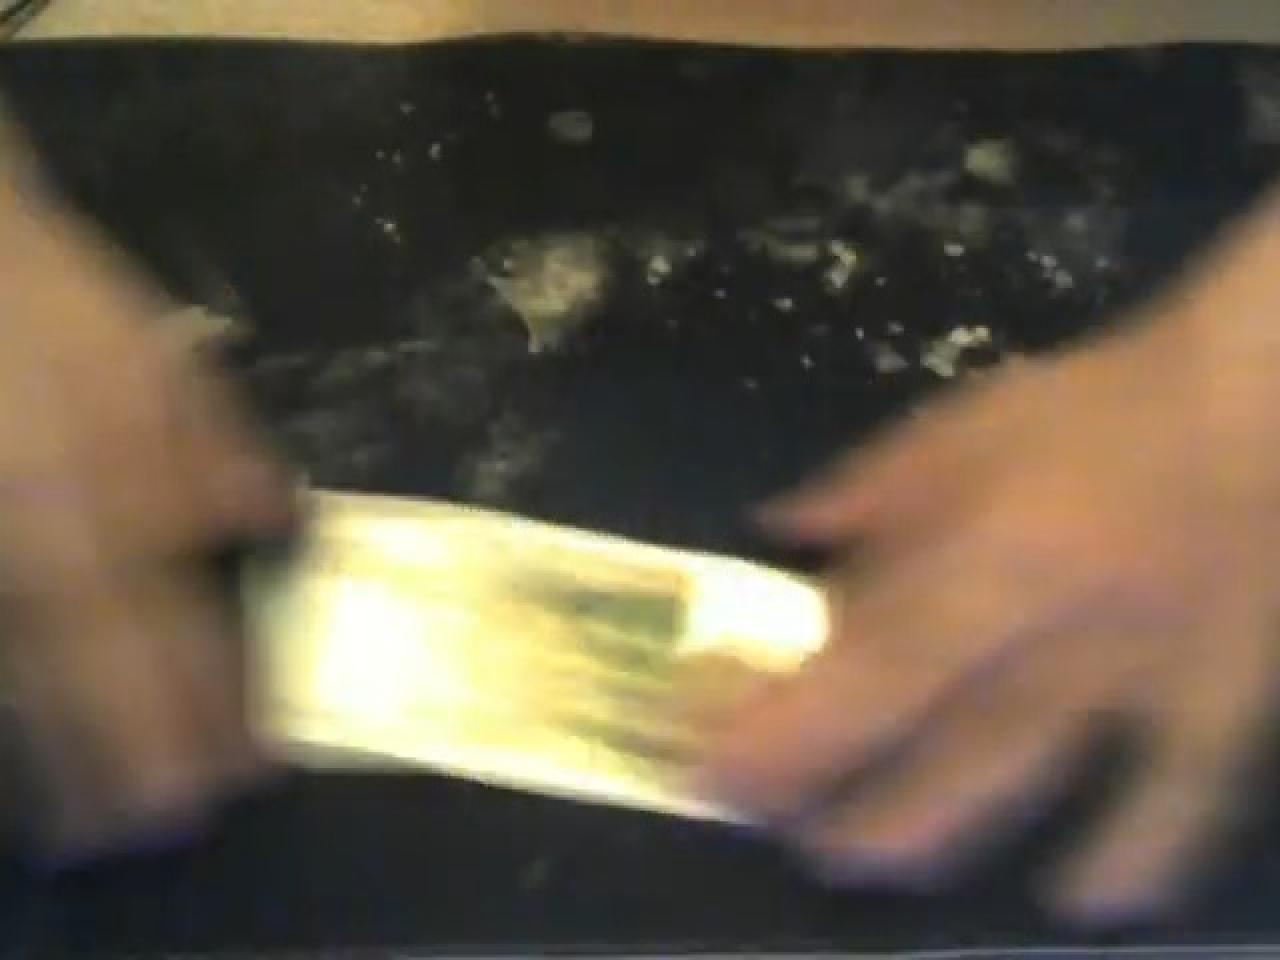10leva: (250, 491, 830, 827)
